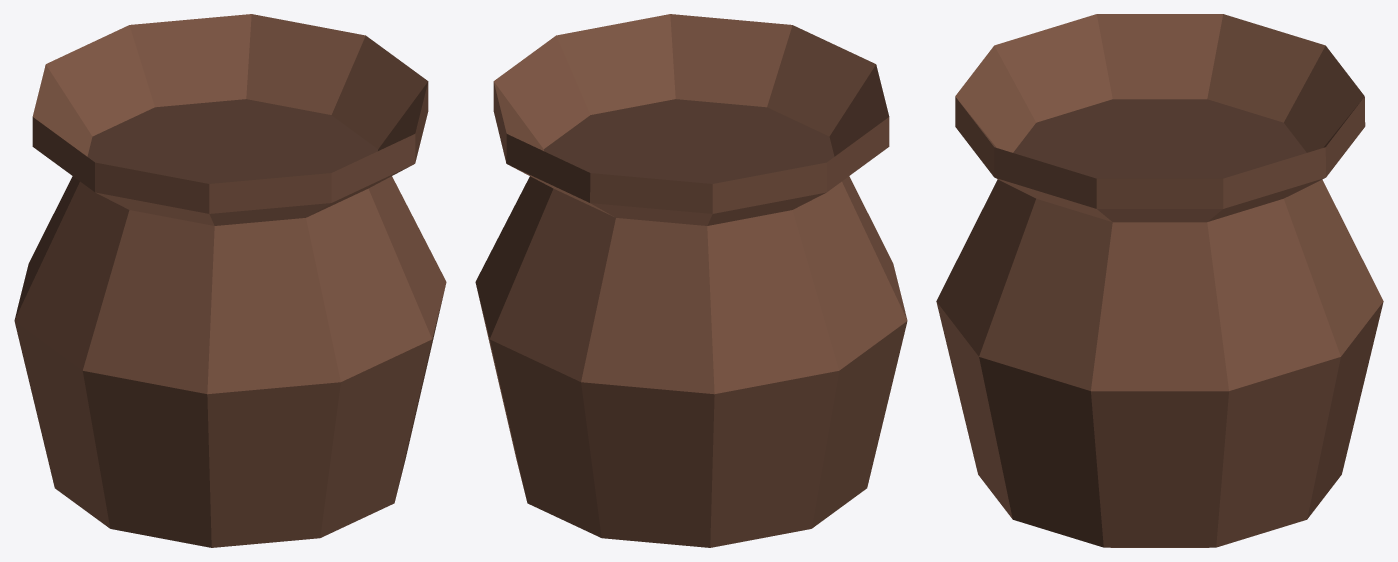
File: Gentong.fbx
The picture shows the model from 3 angles, left to right: view 1: azimuth 30°, elevation 25°; view 2: azimuth 150°, elevation 25°; view 3: azimuth 270°, elevation 25°; orthographic projection.
Parts seen in each view (by area): view 1: Kendi; view 2: Kendi; view 3: Kendi.
Boxes of the visible parts, x1,y1,x2,y2 form: Kendi: [14, 14, 446, 547]; Kendi: [475, 14, 907, 547]; Kendi: [936, 14, 1383, 547].
Bounding box in the file's own units: 111 × 114 × 117.
